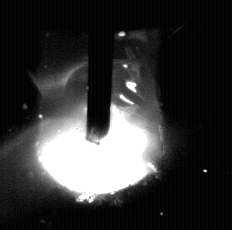arame: (87, 0, 111, 144)
poca: (36, 0, 163, 230)
